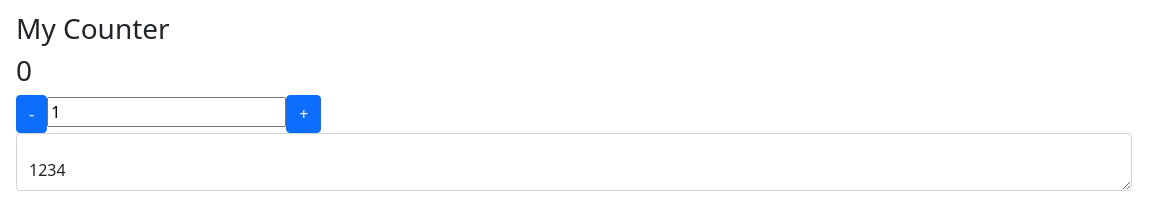
Scenario: click plus btn,the count should be 1
The width and height of the screenshot is (1149, 208).
Expected: the heading with test id "counter" reads "0", [16,51,32,89]
Click the button with test id "addBtn" at (304, 114), box [286,95,321,133]
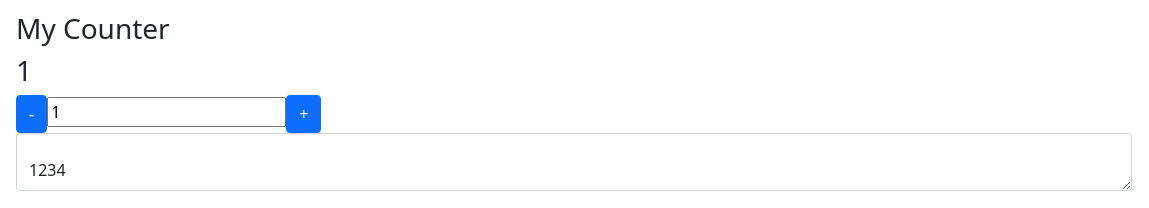
Now the heading with test id "counter" reads "1", box [16,51,32,89]
